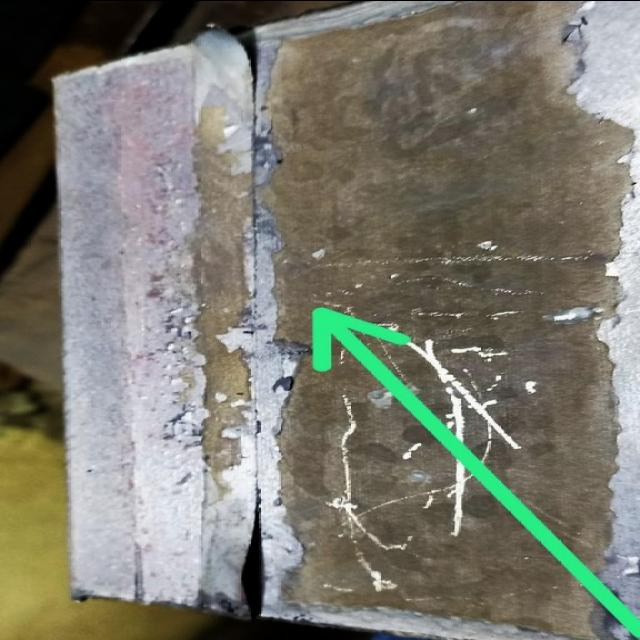defect: (218, 23, 284, 617)
